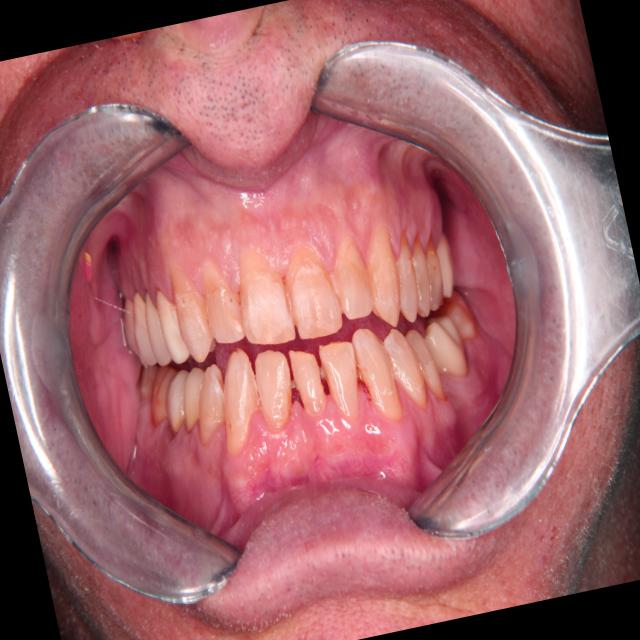tooth: (198, 331, 274, 461), (222, 235, 303, 356), (271, 234, 350, 346), (342, 318, 411, 433), (161, 250, 222, 371), (350, 217, 413, 334), (317, 222, 381, 329), (190, 246, 252, 349), (315, 331, 372, 432), (246, 341, 305, 438), (378, 319, 435, 418), (182, 355, 240, 447), (381, 222, 430, 329), (400, 313, 451, 413), (148, 274, 199, 373), (281, 335, 334, 426), (417, 304, 474, 388), (399, 223, 440, 322), (139, 357, 193, 431), (153, 360, 203, 437), (413, 225, 453, 315), (123, 284, 163, 373), (136, 283, 176, 369), (172, 360, 218, 433), (425, 220, 463, 301), (437, 283, 483, 348), (116, 292, 146, 360), (130, 357, 165, 406)
